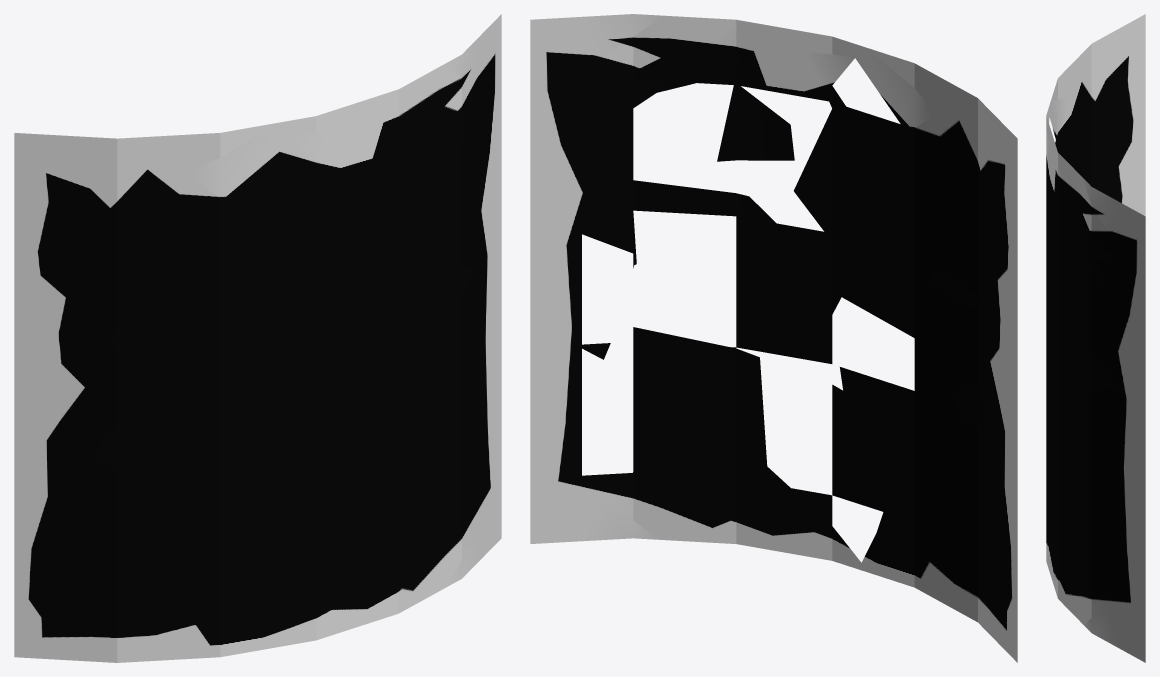
The model's file is Label_Cut.FBX.
3 views of the same model, side by side, from view 1: azimuth 30°, elevation 25°; view 2: azimuth 150°, elevation 25°; view 3: azimuth 270°, elevation 25° (orthographic). The views are drawn at different scales.
Visible parts, largest first — view 1: Bottle label_Cut; view 2: Bottle label_Cut; view 3: Bottle label_Cut.
Part boxes in pixels (x1,y1,x2,y2): Bottle label_Cut: (14,14,501,662); Bottle label_Cut: (530,14,1017,662); Bottle label_Cut: (1046,14,1145,662).
Bounding box in the file's own units: 0.0778 × 0.08 × 0.0161.
Materials: 1 (1 with a texture image).
